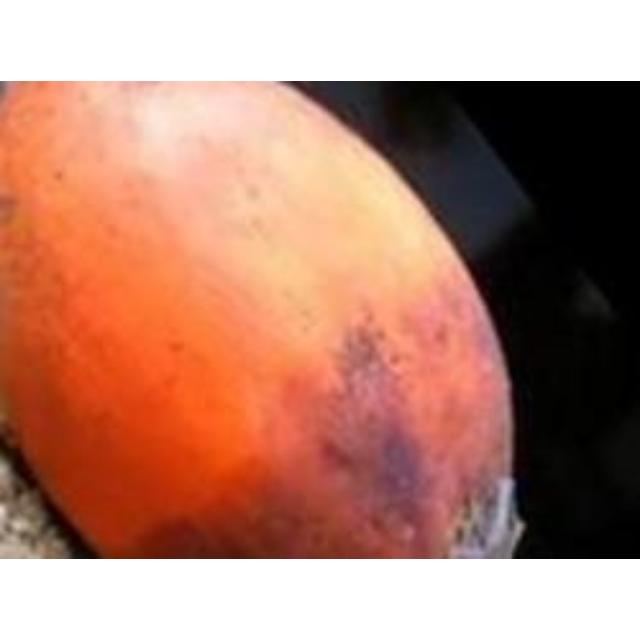good: (0, 81, 527, 557)
